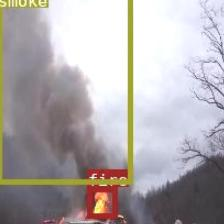fire: (86, 186, 116, 218)
smoke: (0, 0, 132, 183)
